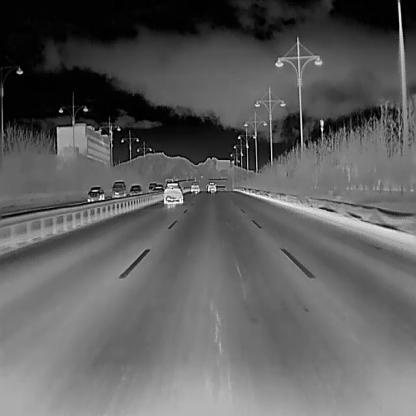car: (162, 180, 182, 204), (85, 186, 104, 202), (110, 181, 126, 199), (128, 185, 142, 195), (189, 182, 200, 194), (206, 181, 217, 193), (147, 181, 156, 192), (155, 182, 164, 191)
